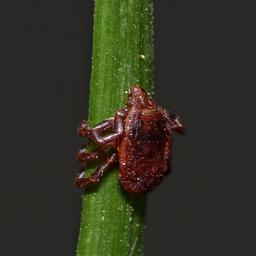Rhipicephalus sanguineus: (75, 84, 183, 196)
